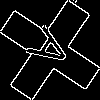A: (25, 25, 82, 78)
